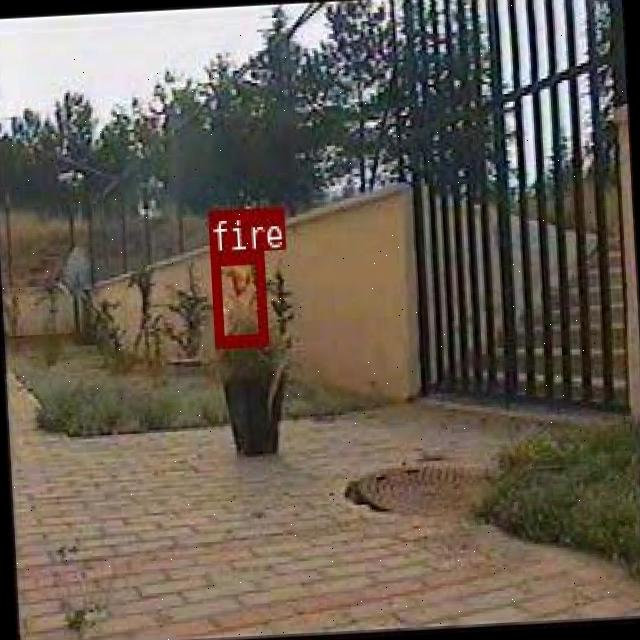fire: (208, 249, 267, 346)
